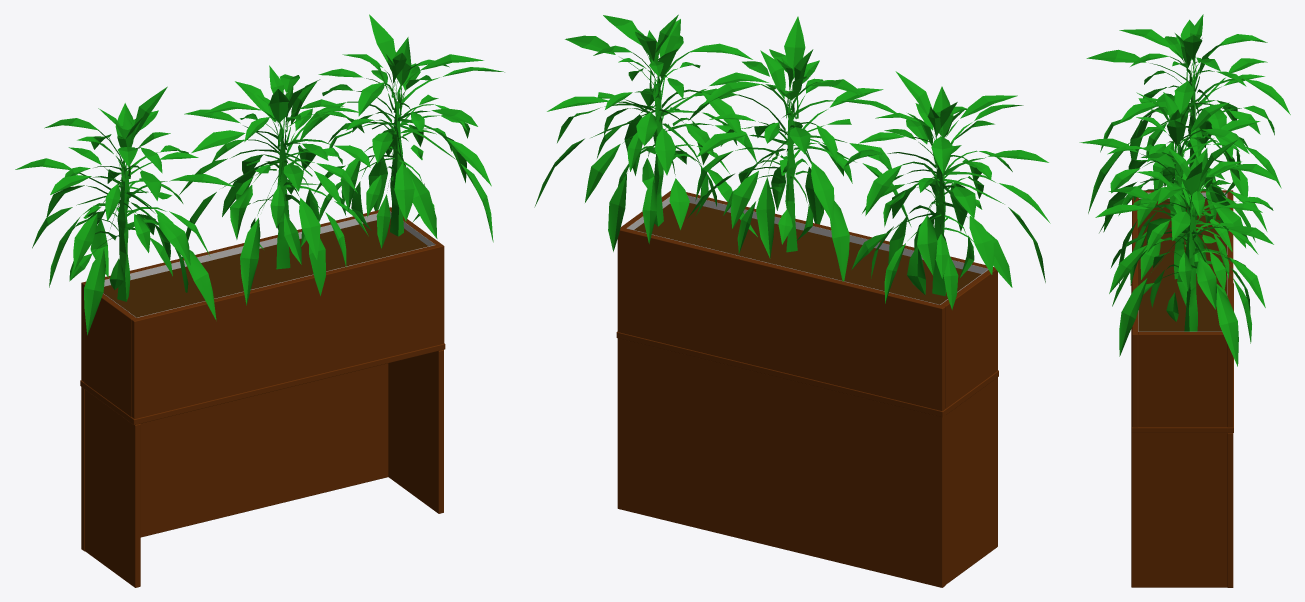
3 renders of one model, left to right at view 1: azimuth 30°, elevation 25°; view 2: azimuth 150°, elevation 25°; view 3: azimuth 270°, elevation 25°, orthographic. The views are drawn at different scales.
Visible parts, largest first — view 1: prednja (×2), zadnja noseca, bocna noseca (×2), tank plant (×13), podloga, bocna, donja, metalni ulozak; view 2: zadnja noseca, prednja (×2), tank plant (×12), bocna noseca, podloga, bocna, donja, metalni ulozak; view 3: tank plant (×38), bocna noseca, bocna, podloga, prednja (×2), zadnja noseca, donja.
Part boxes in pixels (left/top/right/bottom): prednja (×2): left=81, top=207, right=444, bottom=418; zadnja noseca: left=81, top=363, right=388, bottom=551; bocna noseca (×2): left=85, top=350, right=443, bottom=587; tank plant (×13): left=73, top=14, right=437, bottom=335; podloga: left=103, top=218, right=428, bottom=317; bocna: left=84, top=285, right=135, bottom=416; donja: left=80, top=343, right=445, bottom=425; metalni ulozak: left=103, top=211, right=435, bottom=317; zadnja noseca: left=617, top=338, right=945, bottom=587; prednja (×2): left=617, top=191, right=997, bottom=410; tank plant (×12): left=608, top=16, right=994, bottom=296; bocna noseca: left=945, top=377, right=997, bottom=584; podloga: left=634, top=203, right=981, bottom=304; bocna: left=940, top=270, right=994, bottom=408; donja: left=616, top=331, right=998, bottom=417; metalni ulozak: left=626, top=195, right=988, bottom=304; tank plant (×38): left=1079, top=14, right=1290, bottom=366; bocna noseca: left=1131, top=433, right=1227, bottom=587; bocna: left=1138, top=332, right=1227, bottom=427; podloga: left=1138, top=199, right=1226, bottom=331; prednja (×2): left=1132, top=190, right=1233, bottom=427; zadnja noseca: left=1227, top=433, right=1233, bottom=587; donja: left=1131, top=283, right=1233, bottom=432.
Size of the model in its own units: 1474 by 1418 by 618.
